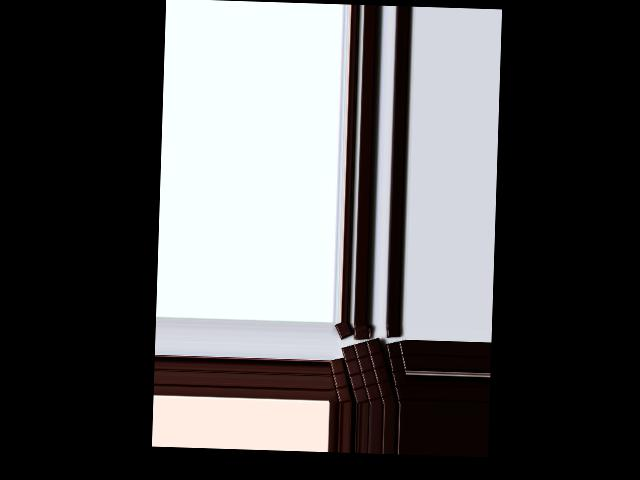chocolate: (338, 337, 396, 405)
